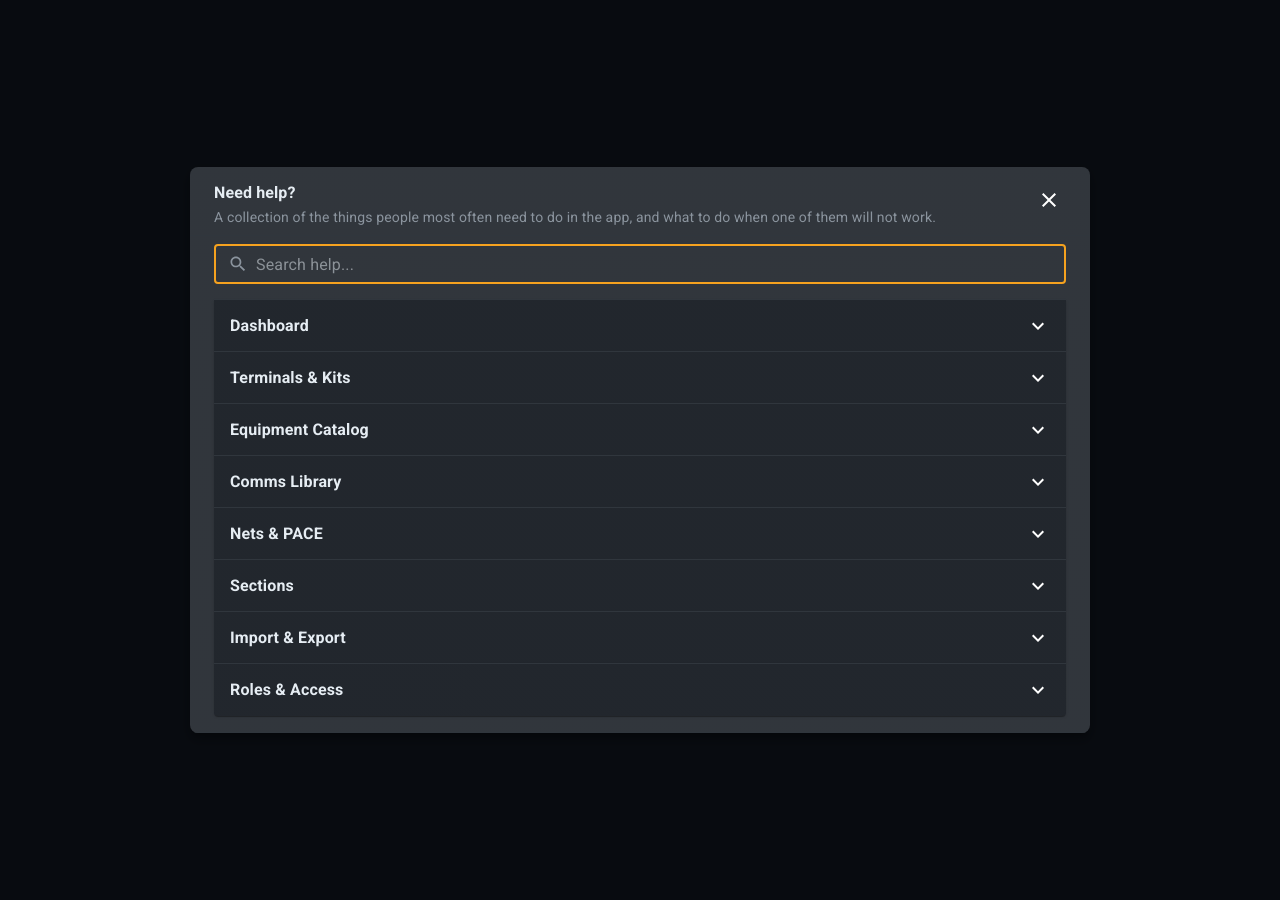
Test: HelpDialog › filters on typing, auto-expanding the matching group and hiding the rest
In the field with placeholder "Search help...": (661, 264) [256, 244, 1066, 284], type "audit log"
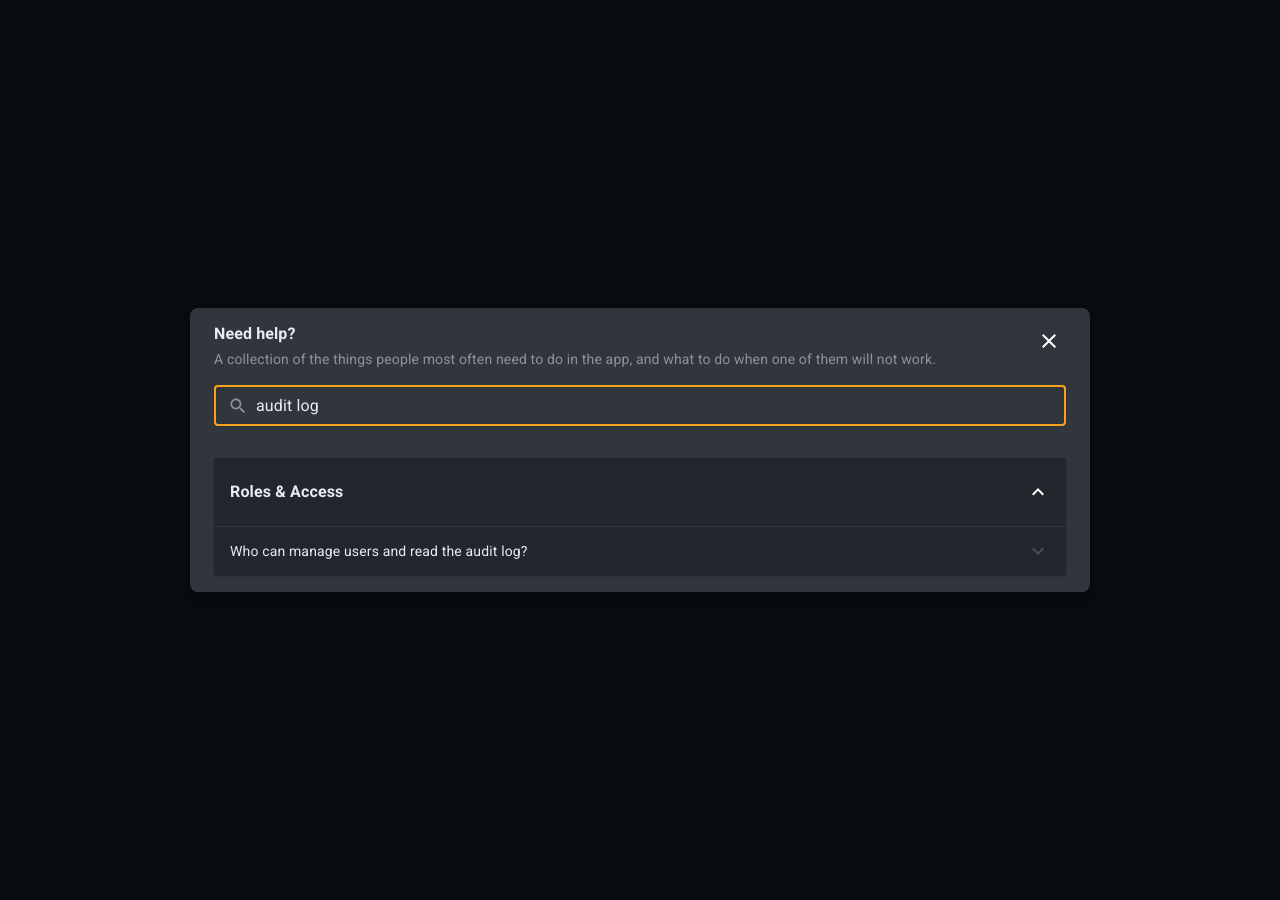
Expected: the heading "Roles & Access" is shown, [230, 478, 344, 506]
Result: the text "Who can manage users and read the audit log?" is shown at [230, 541, 528, 561]
Result: the button "Terminals & Kits" is gone
